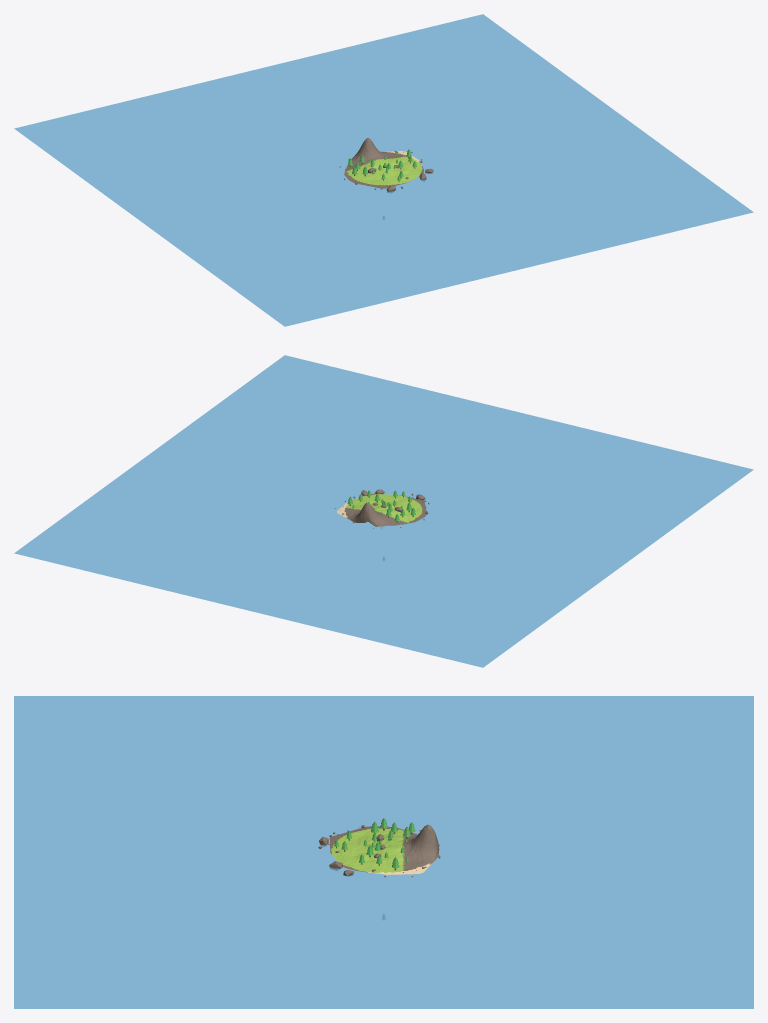
3 renders of one model, top to bottom at view 1: azimuth 30°, elevation 25°; view 2: azimuth 150°, elevation 25°; view 3: azimuth 270°, elevation 25°, orthographic. The views are drawn at different scales.
Parts seen in each view (by area): view 1: Water, Island; view 2: Water, Island; view 3: Water, Island.
Boxes of the visible parts, bbox=[...] form: Water: bbox=[14, 14, 753, 326]; Island: bbox=[344, 138, 423, 188]; Water: bbox=[14, 355, 753, 667]; Island: bbox=[336, 493, 426, 526]; Water: bbox=[14, 696, 753, 1008]; Island: bbox=[329, 824, 439, 874].
Size of the model in its own units: 1200 by 172 by 1200.
